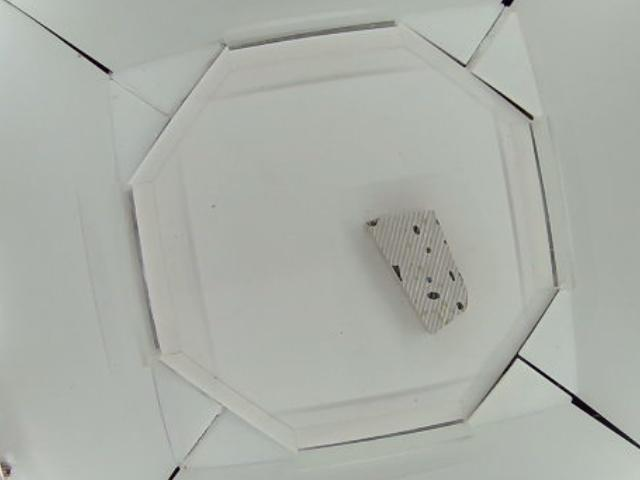China: (364, 209, 468, 332)
